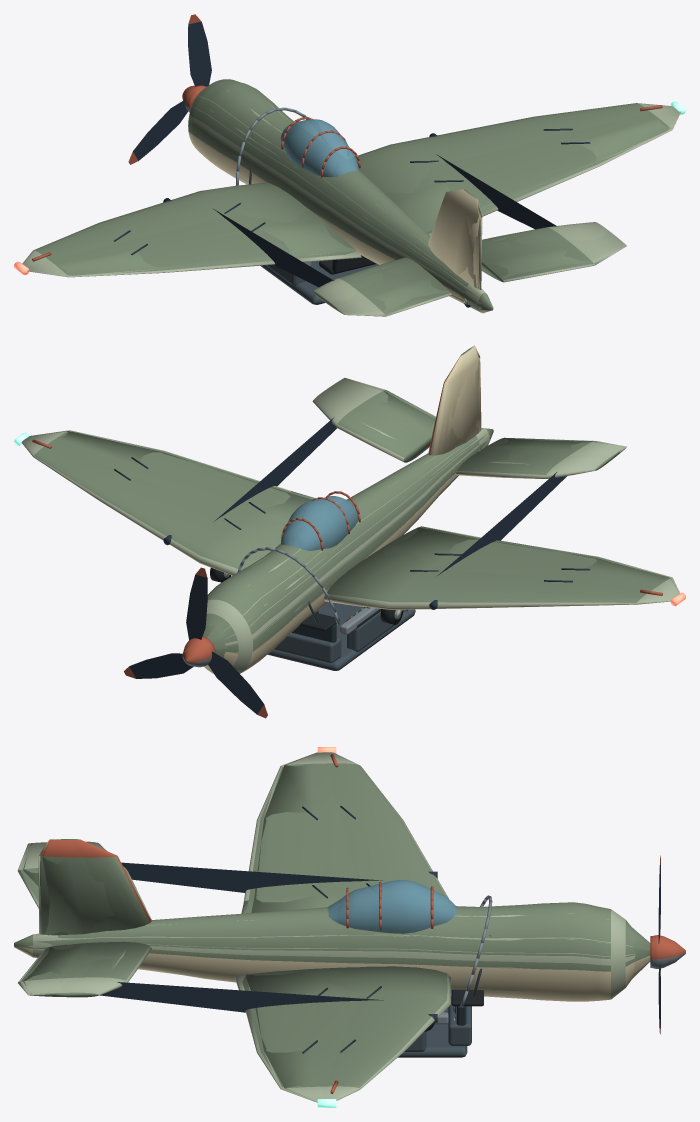
File: zero.glb
3 renders of one model, top to bottom at view 1: azimuth 30°, elevation 25°; view 2: azimuth 150°, elevation 25°; view 3: azimuth 270°, elevation 25°, orthographic. The views are drawn at different scales.
Visible parts, largest first — view 1: Airframe shell mesh, Airframe shell.002 mesh, Airframe shell.001 mesh, Starboard wing, Port wing, Central fuselage, Aft nacelles, Canopy glass, Forward fuselage, Cockpit shell mesh, Canopy glass.001, Prop_0 mesh (+2 smaller); view 2: Airframe shell mesh, Airframe shell.001 mesh, Airframe shell.002 mesh, Cockpit shell mesh, Central fuselage, Starboard wing, Prop_0 mesh, Port wing, Canopy glass, Aft nacelles, Forward fuselage, Canopy glass.001 (+1 smaller); view 3: Airframe shell mesh, Airframe shell.001 mesh, Airframe shell.002 mesh, Starboard wing, Central fuselage, Port wing, Canopy glass, Cockpit shell mesh, Canopy glass.001, Aft nacelles, Forward fuselage, Spinner (+1 smaller).
Part boxes in pixels (box(x1,y1,x2,y2)): Airframe shell mesh: box(14, 79, 685, 316); Airframe shell.002 mesh: box(28, 84, 679, 313); Airframe shell.001 mesh: box(29, 80, 679, 314); Starboard wing: box(436, 109, 680, 256); Port wing: box(27, 209, 373, 315); Central fuselage: box(227, 117, 495, 264); Aft nacelles: box(355, 194, 596, 316); Canopy glass: box(280, 119, 359, 177); Forward fuselage: box(128, 14, 281, 177); Cockpit shell mesh: box(236, 107, 378, 304); Canopy glass.001: box(283, 119, 358, 176); Prop_0 mesh: box(141, 32, 208, 152); Airframe shell mesh: box(14, 348, 685, 673); Airframe shell.001 mesh: box(25, 347, 679, 669); Airframe shell.002 mesh: box(27, 346, 679, 658); Cockpit shell mesh: box(237, 547, 415, 670); Central fuselage: box(224, 469, 480, 615); Starboard wing: box(26, 380, 373, 521); Prop_0 mesh: box(124, 567, 267, 718); Port wing: box(437, 443, 676, 606); Canopy glass: box(281, 496, 358, 550); Aft nacelles: box(332, 346, 596, 511); Forward fuselage: box(142, 554, 309, 703); Canopy glass.001: box(281, 496, 356, 550); Airframe shell mesh: box(14, 747, 635, 1107); Airframe shell.001 mesh: box(20, 752, 635, 1101); Airframe shell.002 mesh: box(14, 752, 650, 1101); Starboard wing: box(29, 980, 383, 1101); Central fuselage: box(202, 880, 478, 998); Port wing: box(29, 752, 382, 892); Canopy glass: box(329, 880, 456, 933); Cockpit shell mesh: box(398, 895, 492, 1057); Canopy glass.001: box(329, 880, 453, 932); Aft nacelles: box(28, 840, 202, 983); Forward fuselage: box(479, 878, 676, 1034); Spinner: box(650, 935, 685, 968).
Bounding box in the file's own units: 12.13 × 3.08 × 9.69.
